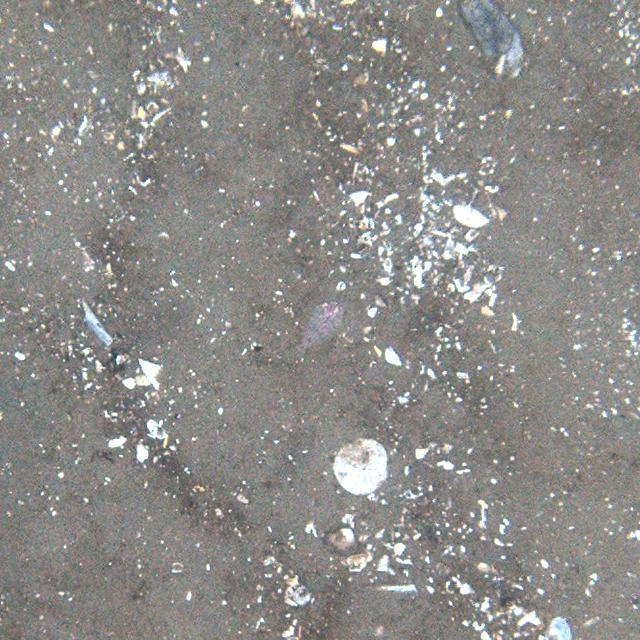flatfish: (296, 299, 345, 360)
